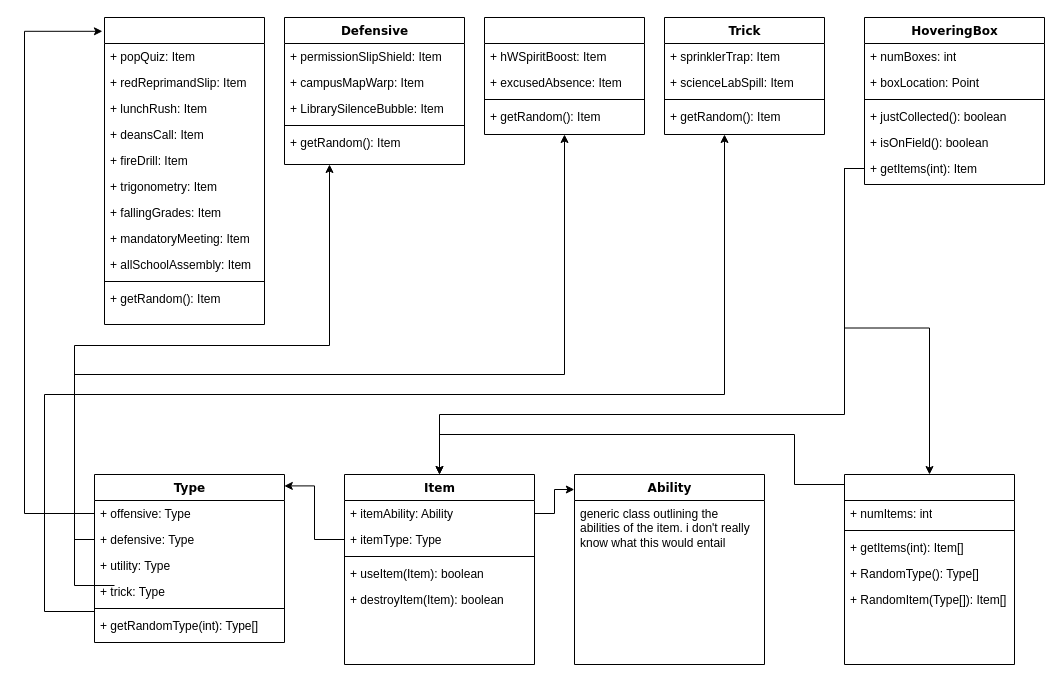
The diagram is 1062 pixels wide and 682 high, and some of its shapes have lost their labels. Here are the shapes that lost their labels. From the top down, the box of each, then its label:
(484, 16, 644, 134): Utility
(104, 16, 264, 324): Offensive
(844, 474, 1014, 664): Randomizer
